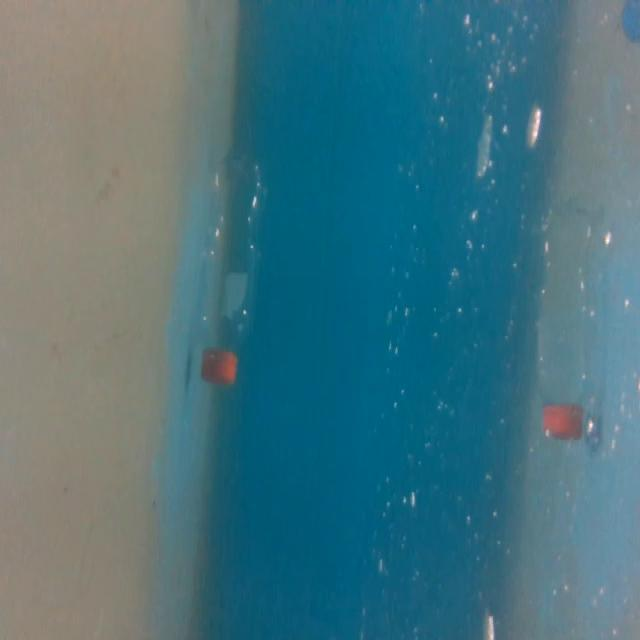plastic bottle: (184, 151, 274, 389)
